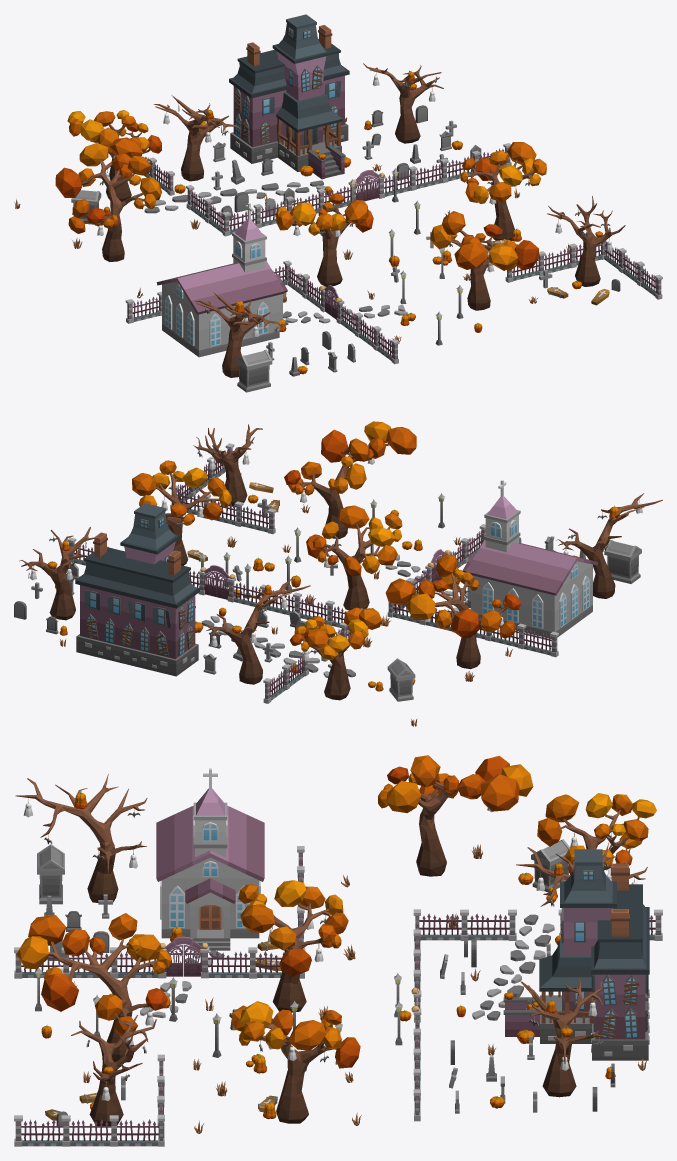
Rendered from cemetery_church.glb.
3 views of the same model, one above another, from view 1: azimuth 30°, elevation 25°; view 2: azimuth 150°, elevation 25°; view 3: azimuth 270°, elevation 25° (orthographic). The views are drawn at different scales.
Visible parts, largest first — view 1: halloween house_184, halloween church_200, autumn tree 13 (1)_30, autumn tree 13_191, autumn tree 14 (1)_51, autumn tree 14_25, autumn tree 15_56, dry tree 3 (1)_196, dry tree 5_205, dry tree 3_63, dry tree 4_95, crypt_136 (+5 smaller); view 2: halloween house_184, halloween church_200, autumn tree 13 (1)_30, autumn tree 13_191, autumn tree 14_25, autumn tree 14 (1)_51, autumn tree 15_56, dry tree 3 (1)_196, dry tree 3_63, dry tree 4_95, dry tree 5_205, crypt_136 (+7 smaller); view 3: halloween house_184, halloween church_200, autumn tree 13_191, autumn tree 13 (1)_30, autumn tree 14 (1)_51, autumn tree 14_25, autumn tree 15_56, dry tree 3_63, dry tree 4_95, dry tree 5_205, halloween gate_77, crypt_136 (+9 smaller).
Part boxes in pixels (x1,y1,x2,y2): halloween house_184: [229, 14, 349, 179]; halloween church_200: [156, 203, 288, 357]; autumn tree 13 (1)_30: [55, 137, 161, 261]; autumn tree 13_191: [430, 211, 539, 310]; autumn tree 14 (1)_51: [460, 142, 546, 240]; autumn tree 14_25: [275, 193, 373, 286]; autumn tree 15_56: [67, 110, 161, 201]; dry tree 3 (1)_196: [153, 95, 241, 181]; dry tree 5_205: [547, 196, 625, 286]; dry tree 3_63: [195, 291, 282, 377]; dry tree 4_95: [363, 63, 443, 143]; crypt_136: [236, 349, 272, 392]; halloween house_184: [75, 503, 199, 676]; halloween church_200: [462, 480, 598, 638]; autumn tree 13 (1)_30: [385, 554, 520, 669]; autumn tree 13_191: [284, 421, 416, 538]; autumn tree 14_25: [306, 505, 402, 610]; autumn tree 14 (1)_51: [132, 460, 231, 565]; autumn tree 15_56: [289, 607, 382, 700]; dry tree 3 (1)_196: [203, 579, 310, 684]; dry tree 3_63: [556, 493, 662, 598]; dry tree 4_95: [19, 527, 94, 620]; dry tree 5_205: [193, 424, 262, 506]; crypt_136: [604, 539, 641, 583]; halloween house_184: [503, 849, 649, 1060]; halloween church_200: [156, 768, 264, 950]; autumn tree 13_191: [16, 913, 171, 1062]; autumn tree 13 (1)_30: [378, 755, 533, 876]; autumn tree 14 (1)_51: [231, 1001, 360, 1123]; autumn tree 14_25: [238, 880, 348, 1012]; autumn tree 15_56: [537, 793, 656, 875]; dry tree 3_63: [15, 774, 147, 902]; dry tree 4_95: [521, 979, 603, 1097]; dry tree 5_205: [71, 1013, 156, 1125]; halloween gate_77: [158, 936, 209, 978]; crypt_136: [37, 844, 64, 904].
Bounding box in the file's own units: 21.87 × 8.88 × 21.5.
Materials: 1 (1 with a texture image).
